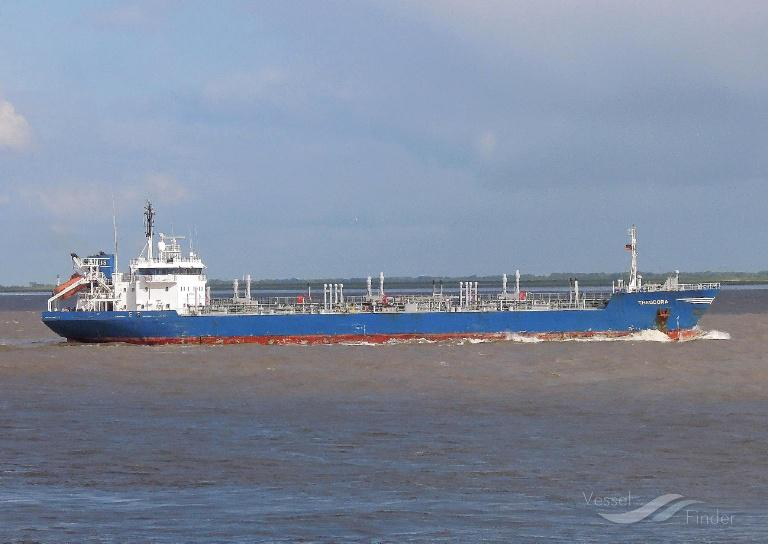OCR: (633, 292, 677, 310)
